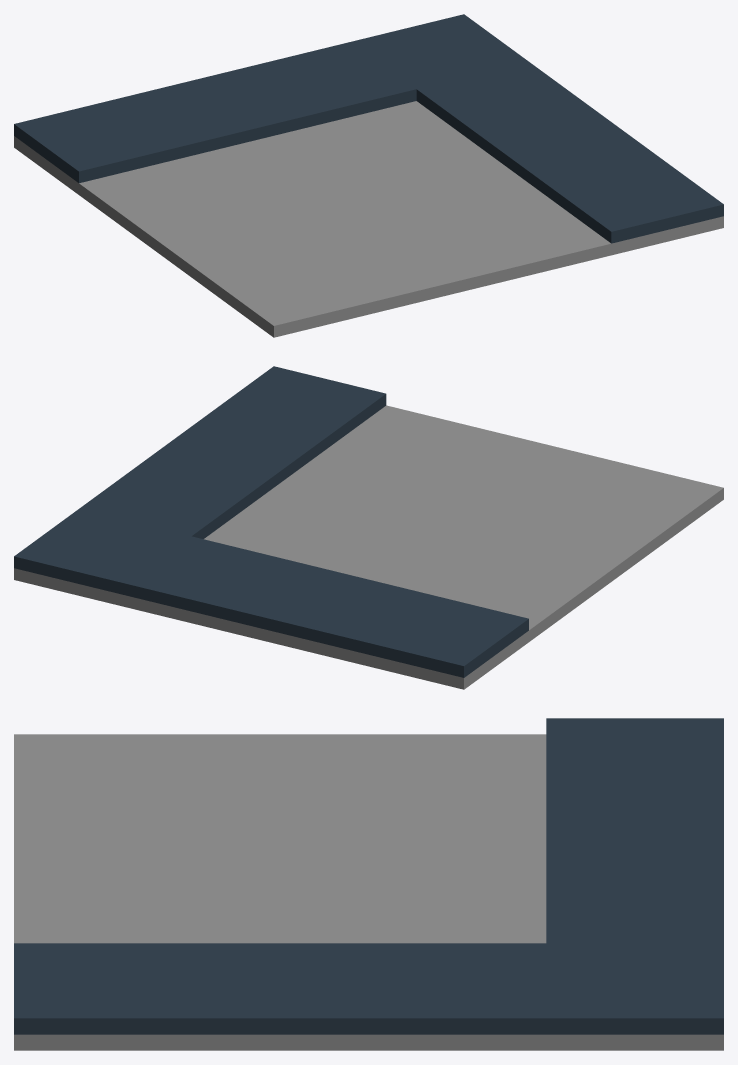
Rendered from RuaV.fbx.
The picture shows the model from 3 angles, top to bottom: view 1: azimuth 30°, elevation 25°; view 2: azimuth 150°, elevation 25°; view 3: azimuth 270°, elevation 25°; orthographic projection. The views are drawn at different scales.
Visible parts, largest first — view 1: Rua.esquina; view 2: Rua.esquina; view 3: Rua.esquina.
Part boxes in pixels (left/top/right/bottom): Rua.esquina: left=14, top=14, right=723, bottom=337; Rua.esquina: left=14, top=366, right=723, bottom=689; Rua.esquina: left=14, top=718, right=723, bottom=1050.
Bounding box in the file's own units: 4 × 0.2 × 4.
